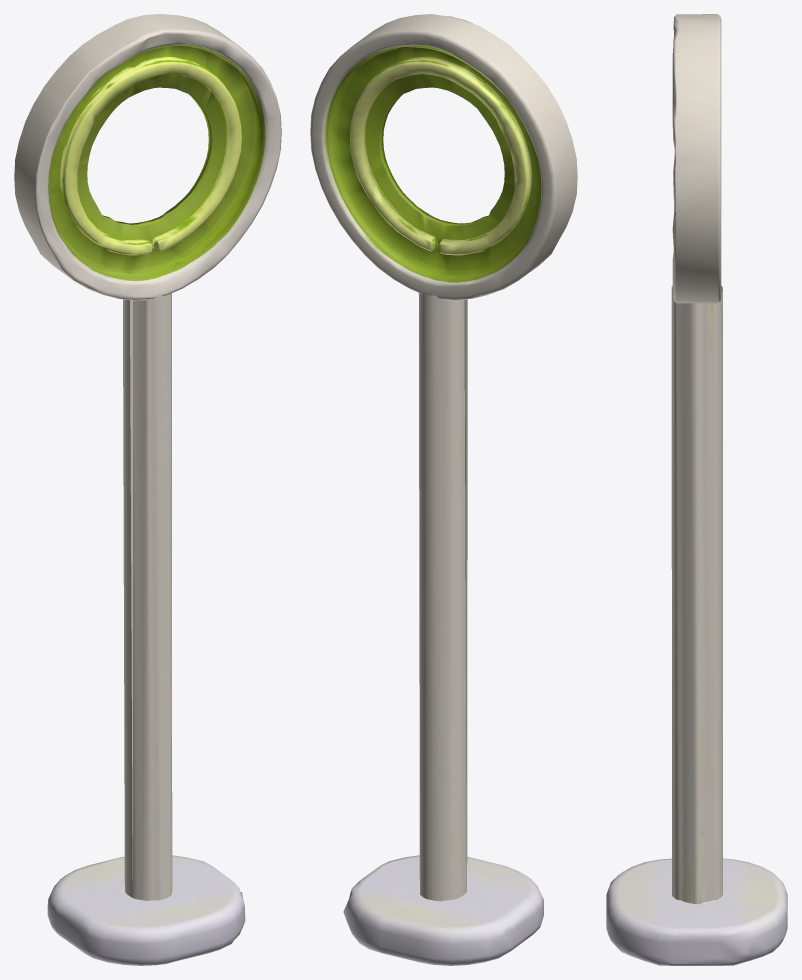
The model's file is lamp.glb.
The picture shows the model from 3 angles, left to right: view 1: azimuth 30°, elevation 25°; view 2: azimuth 150°, elevation 25°; view 3: azimuth 270°, elevation 25°; orthographic projection.
Bounding box in the file's own units: 0.271 × 0.9502 × 0.1724.
Materials: 1 (1 with a texture image).
